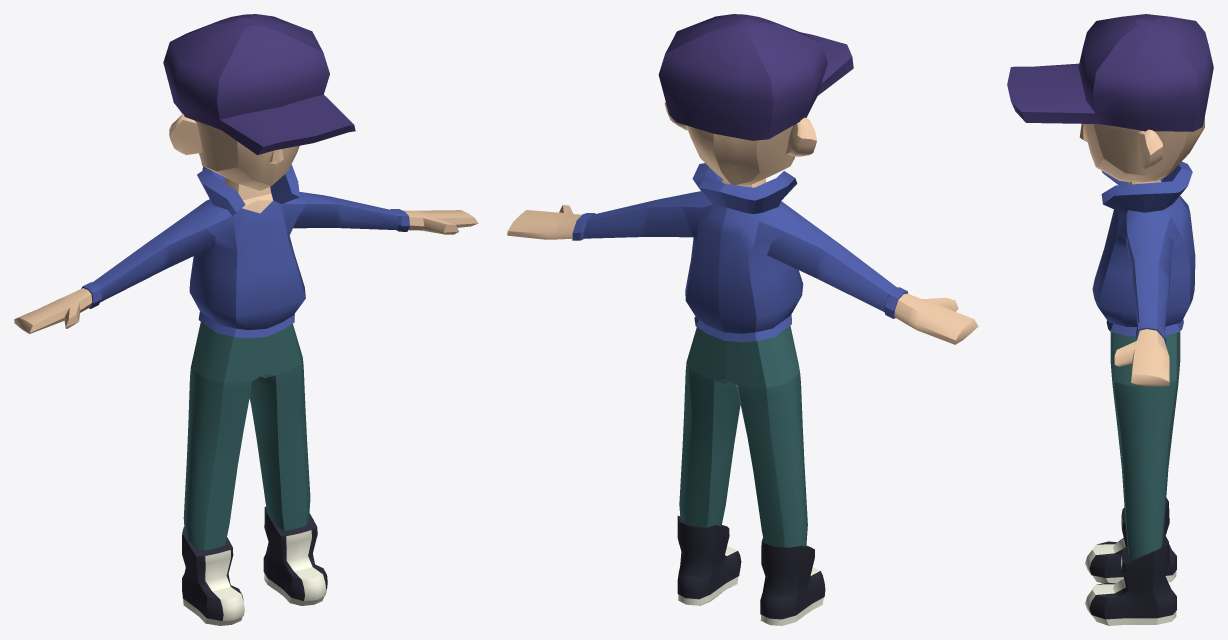
The model's file is MainCharacter_Model.fbx.
3 renders of one model, left to right at view 1: azimuth 30°, elevation 25°; view 2: azimuth 150°, elevation 25°; view 3: azimuth 270°, elevation 25°, orthographic.
Parts seen in each view (by area): view 1: pasted__polySurface9; view 2: pasted__polySurface9; view 3: pasted__polySurface9.
Boxes of the visible parts, x1,y1,x2,y2 form: pasted__polySurface9: [14, 14, 478, 625]; pasted__polySurface9: [507, 14, 978, 625]; pasted__polySurface9: [1007, 14, 1213, 625].
Bounding box in the file's own units: 2.63 × 3.21 × 1.05.
1 material, 1 textured.
